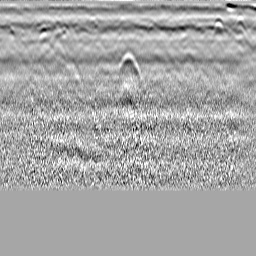cavity: (116, 50, 140, 79)
